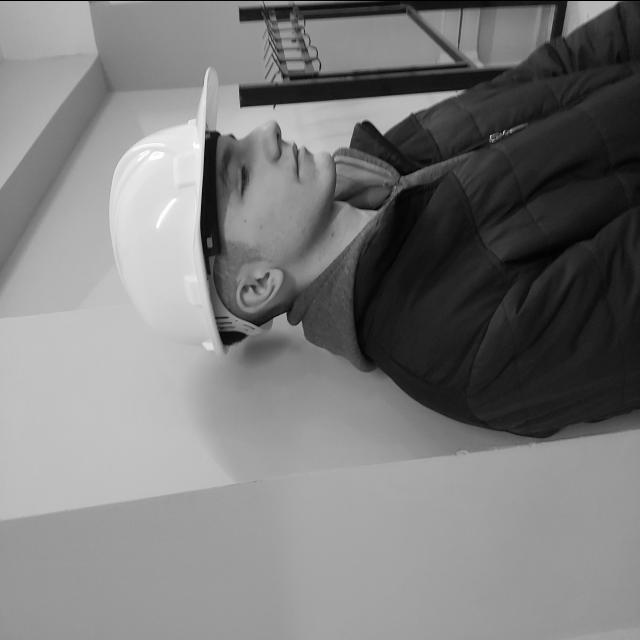safety_helmet: (110, 66, 257, 353)
